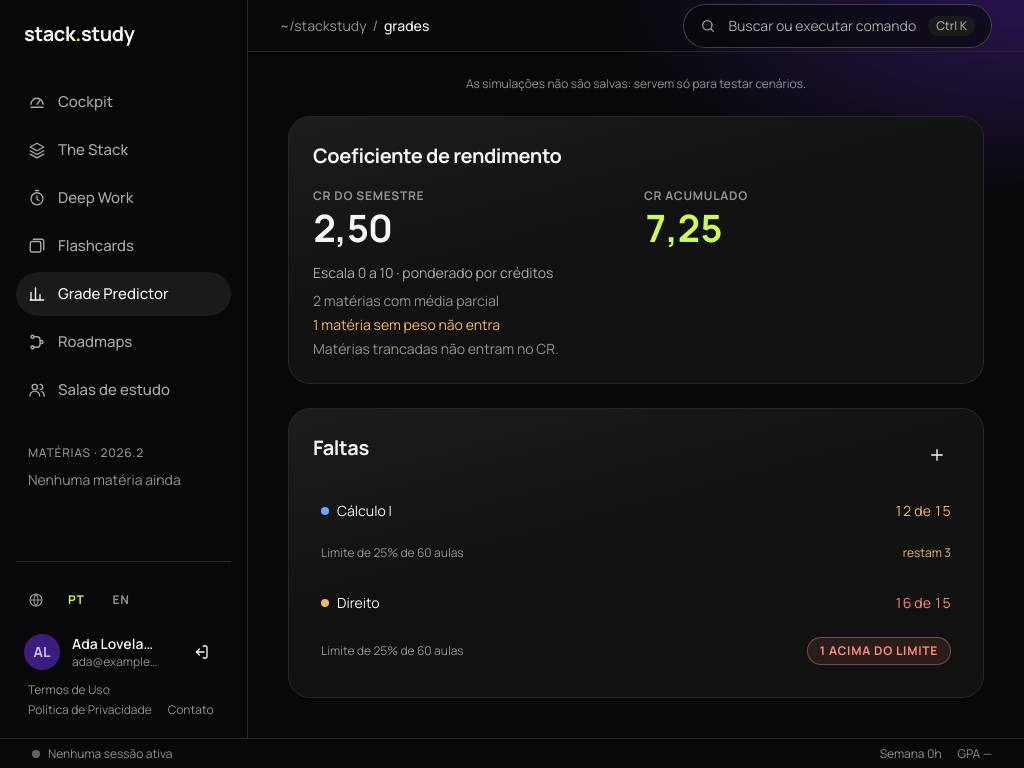
Test: GradesPage › registra falta por data e lista os registros
Later steps or results of the test are not shown.
(page scrolled)
Click the button with aria-label "Faltas de Cálculo I".
click(364, 510)  # box [313, 493, 959, 569]
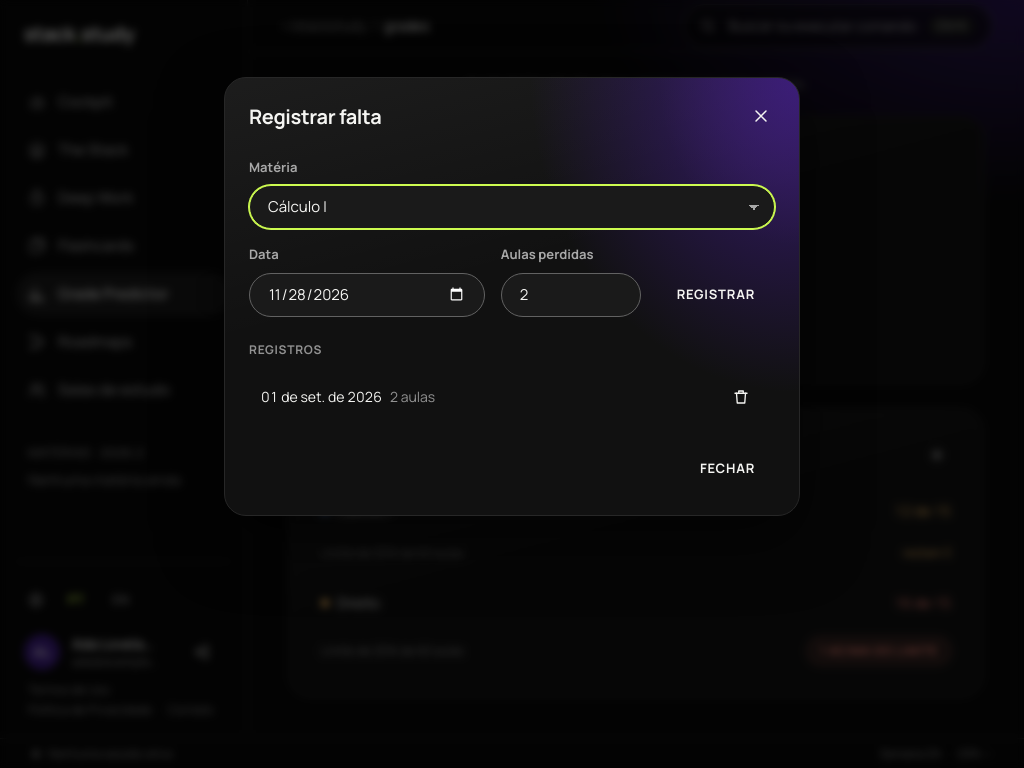
Result: the text "2 aulas" is shown at [390, 387, 435, 406]
